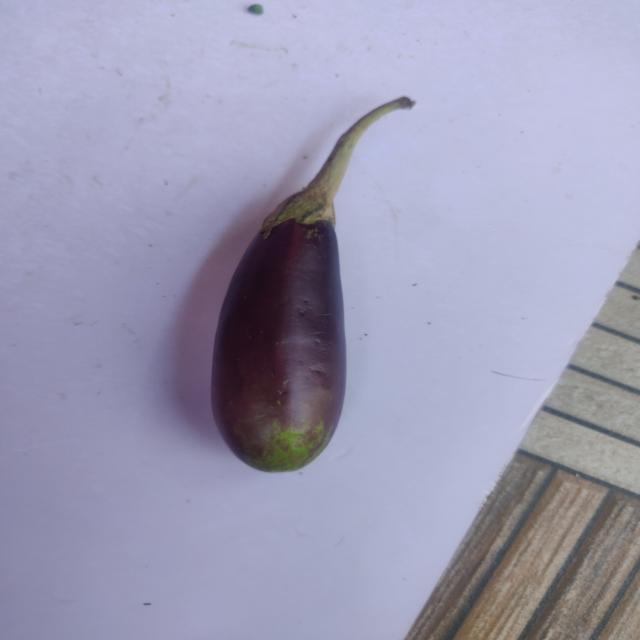Brinjal: (198, 89, 424, 478)
